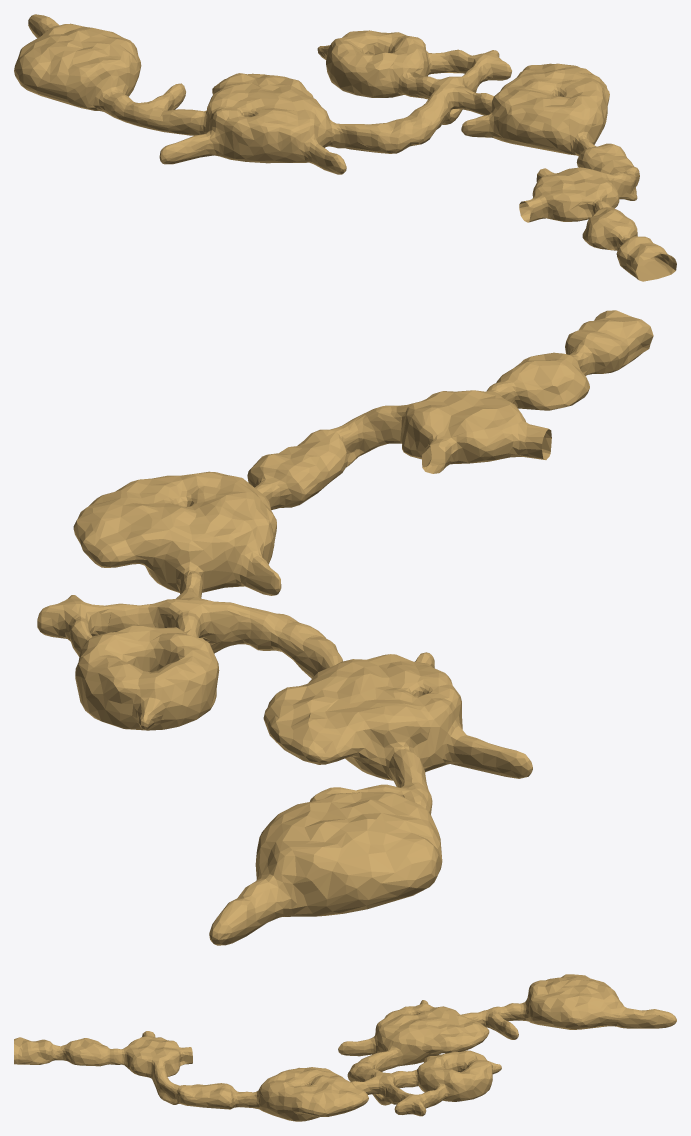
Rendered from Mineshaft.fbx.
The picture shows the model from 3 angles, top to bottom: view 1: azimuth 30°, elevation 25°; view 2: azimuth 150°, elevation 25°; view 3: azimuth 270°, elevation 25°; orthographic projection. The views are drawn at different scales.
Visible parts, largest first — view 1: Mineshaft; view 2: Mineshaft; view 3: Mineshaft.
Boxes of the visible parts, x1,y1,x2,y2 form: Mineshaft: (14,14,676,281); Mineshaft: (37,310,653,945); Mineshaft: (14,974,676,1121).
Size of the model in its own units: 6443 by 1040 by 12295.
